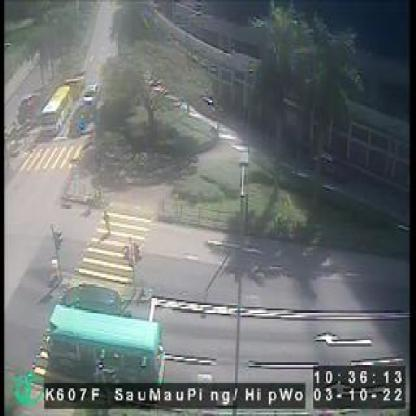Bus: (41, 87, 69, 135)
Car: (61, 283, 121, 312), (83, 82, 99, 100)
Minibus: (49, 307, 164, 383)
